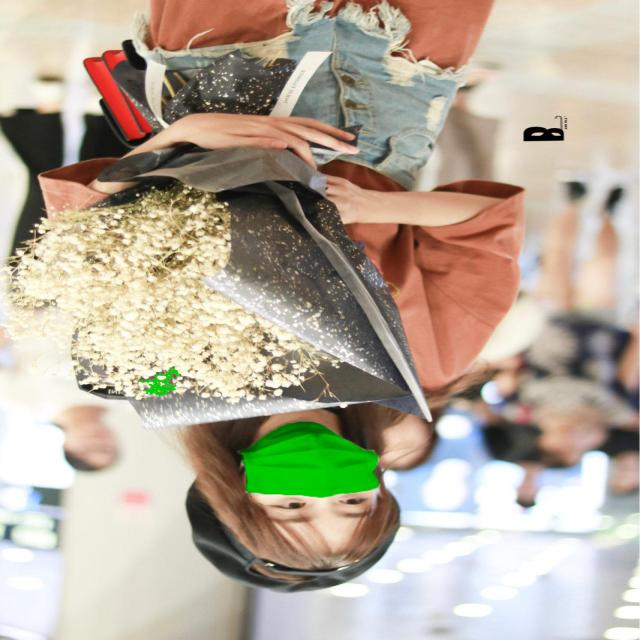Mask: (224, 421, 394, 504)
